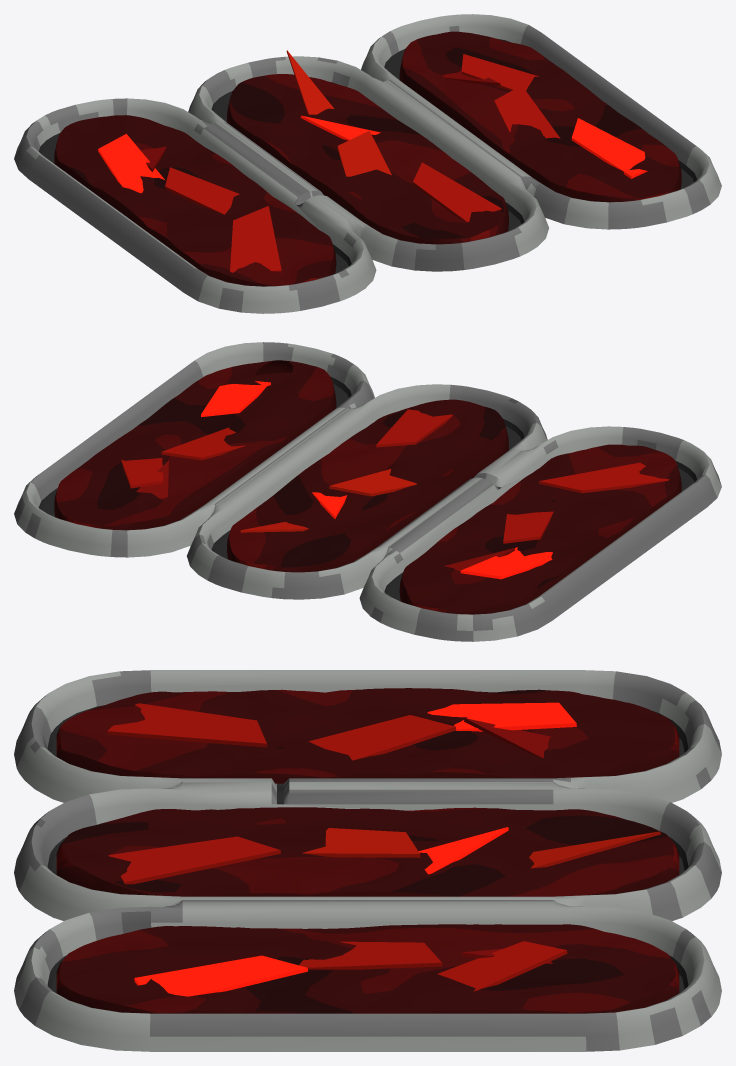
File: panel_pills_wreck.glb
The picture shows the model from 3 angles, top to bottom: view 1: azimuth 30°, elevation 25°; view 2: azimuth 150°, elevation 25°; view 3: azimuth 270°, elevation 25°; orthographic projection. The views are drawn at different scales.
Parts seen in each view (by area): view 1: rim0, fracture1, fracture0, fracture2, rim1, rim2, glass2, shard0_0, glass1, shard1_0, shard2_0, shard0_2 (+7 smaller); view 2: rim0, fracture1, fracture0, fracture2, rim1, rim2, glass2, glass1, shard0_0, glass0, shard1_0, shard0_2 (+5 smaller); view 3: rim2, fracture1, fracture2, fracture0, rim1, rim0, shard1_0, shard0_0, glass2, glass0, shard2_0, shard0_1 (+8 smaller).
Boxes of the visible parts, box(x1,y1,x2,y2) form: rim0: box(14, 98, 376, 313); fracture1: box(229, 74, 506, 239); fracture0: box(56, 115, 333, 285); fracture2: box(402, 31, 679, 198); rim1: box(188, 56, 548, 271); rim2: box(361, 14, 721, 229); glass2: box(399, 48, 681, 202); shard0_0: box(230, 206, 281, 272); glass1: box(227, 92, 508, 244); shard1_0: box(412, 162, 501, 222); shard2_0: box(571, 118, 647, 178); shard0_2: box(98, 134, 164, 193); rim0: box(359, 426, 721, 641); fracture1: box(229, 399, 506, 567); fracture0: box(402, 444, 679, 611); fracture2: box(56, 360, 333, 526); rim1: box(187, 384, 547, 599); rim2: box(14, 342, 374, 557); glass2: box(54, 360, 336, 530); glass1: box(227, 429, 508, 572); shard0_0: box(539, 462, 668, 493); glass0: box(399, 471, 681, 614); shard1_0: box(376, 409, 452, 447); shard0_2: box(460, 547, 552, 579); rim2: box(14, 900, 721, 1051); fracture1: box(62, 807, 674, 896); fracture2: box(60, 924, 675, 1013); fracture0: box(59, 688, 675, 778); rim1: box(14, 782, 721, 920); rim0: box(14, 670, 721, 802); shard1_0: box(108, 836, 280, 884); shard0_0: box(107, 703, 267, 747); glass2: box(56, 960, 679, 1013); glass0: box(56, 723, 679, 783); shard2_0: box(134, 955, 307, 996); shard0_1: box(308, 715, 456, 760).
Bounding box in the file's own units: 24.24 × 1.8 × 20.24.
